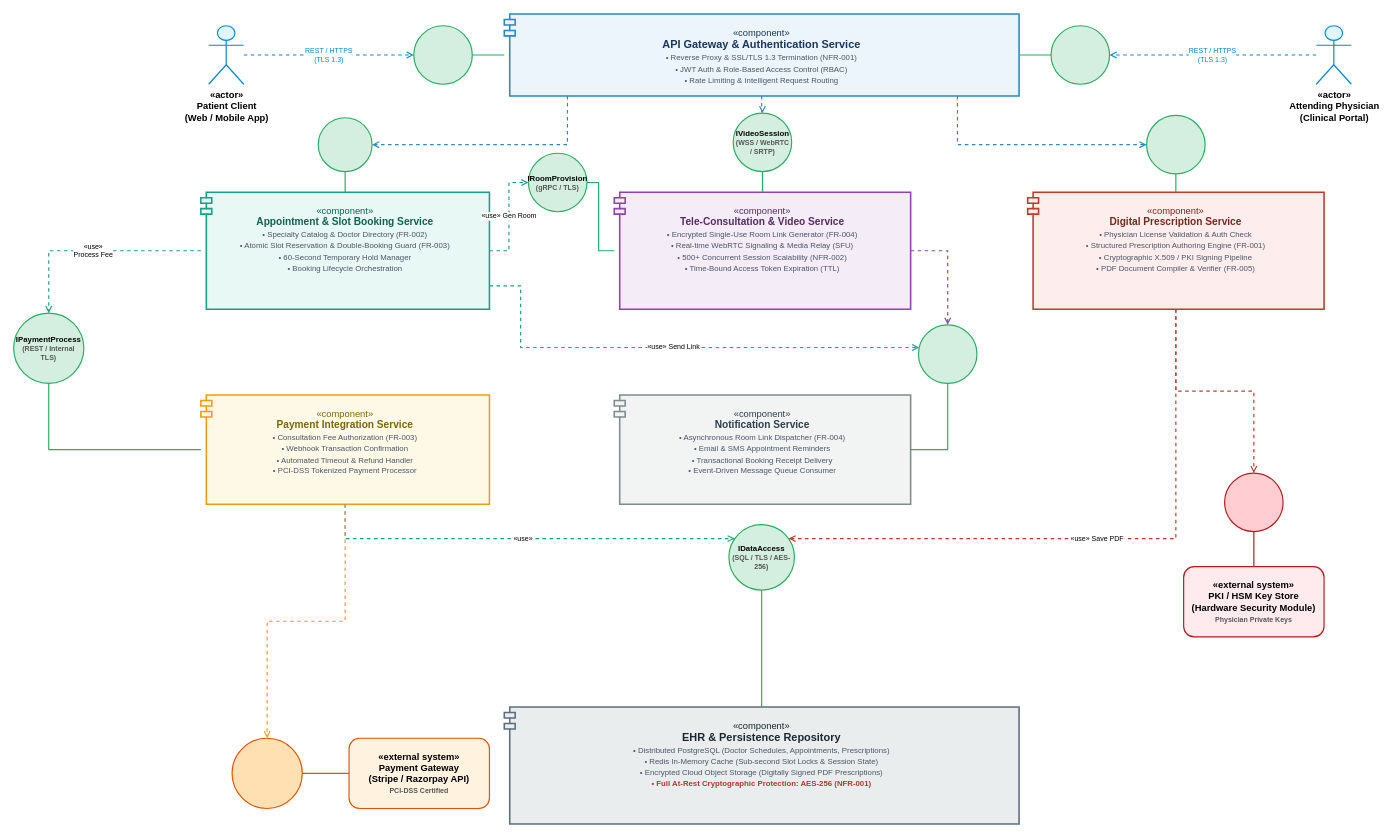
Image size: 1392x838. Some labels were removed from this diagram. The shapes that lost their labels are listed below. From the top down, each one's centre as x and y in pixels, then its label:
At point (443, 54): "IClientGateway (HTTPS / TLS 1.3)".
At point (1080, 54): "IPhysicianAPI (HTTPS / TLS 1.3)".
At point (344, 144): "ISlotBooking (gRPC / Protobuf)".
At point (1175, 144): "IPrescription (REST / JSON / PDF)".
At point (947, 354): "INotification (AMQP / gRPC)".
At point (1253, 502): "ICryptoSign (PKCS#11 / TLS)".
At point (266, 773): "IPaymentGateway (PCI-DSS REST)".
